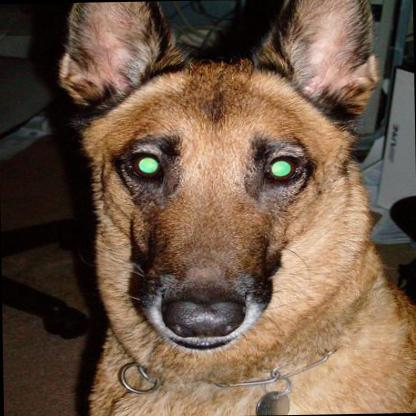malinois: (58, 0, 416, 416)
